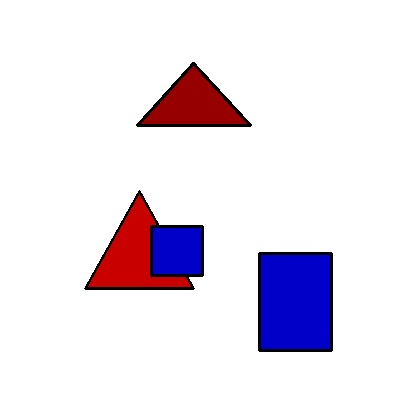rectangle: (259, 253, 331, 350), (151, 226, 202, 275)
triangle: (85, 191, 193, 288), (137, 63, 250, 125)
